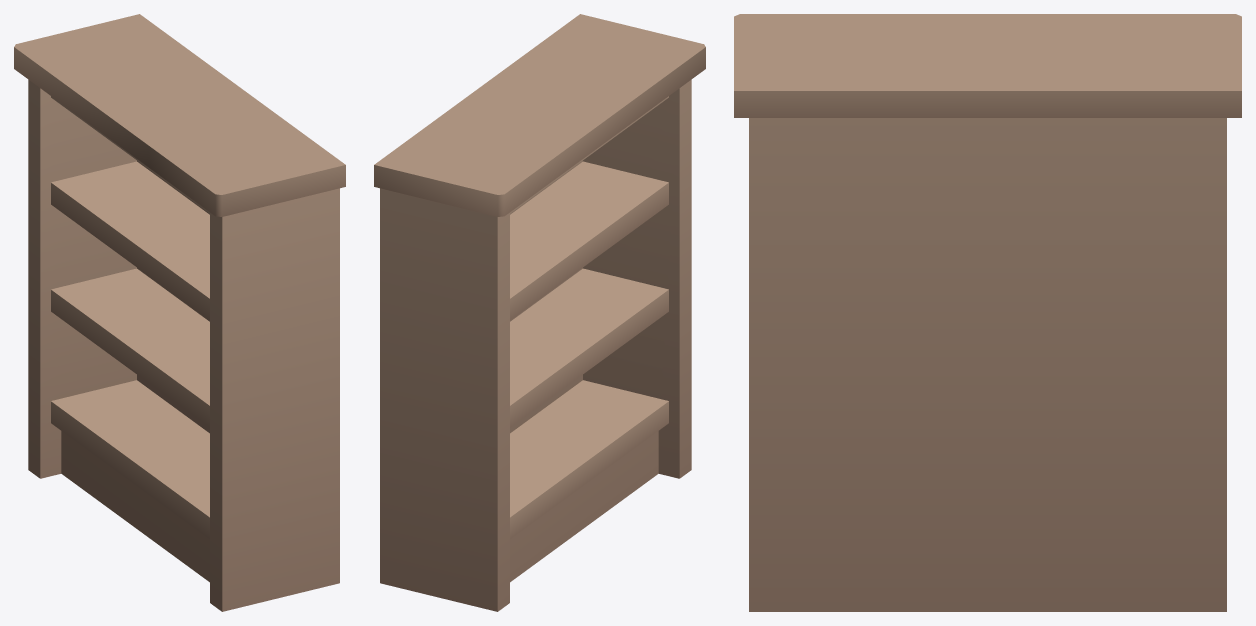
File: cabinet-bookcase-classic-low.glb
3 renders of one model, left to right at view 1: azimuth 30°, elevation 25°; view 2: azimuth 150°, elevation 25°; view 3: azimuth 270°, elevation 25°, orthographic. The views are drawn at different scales.
Parts seen in each view (by area): view 1: cabinet-bookcase-classic-low; view 2: cabinet-bookcase-classic-low; view 3: cabinet-bookcase-classic-low.
Boxes of the visible parts, box(x1,y1,x2,y2) form: cabinet-bookcase-classic-low: box(14, 14, 345, 611); cabinet-bookcase-classic-low: box(374, 14, 705, 611); cabinet-bookcase-classic-low: box(734, 14, 1241, 611).
Size of the model in its own units: 0.305 by 0.962 by 0.85.
